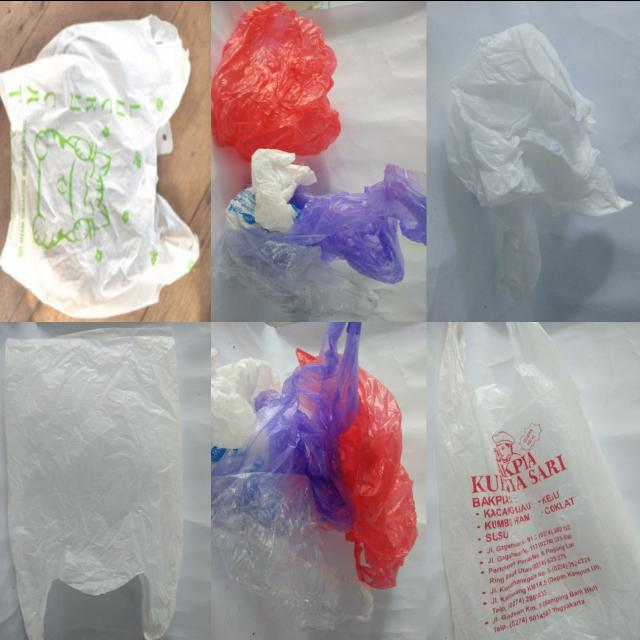plastik: (437, 321, 640, 640), (0, 15, 199, 316), (6, 328, 182, 640), (446, 23, 632, 298), (215, 321, 360, 531), (211, 472, 373, 630), (211, 1, 340, 158), (281, 163, 426, 283), (339, 367, 417, 588), (219, 229, 378, 316), (227, 148, 316, 231), (212, 357, 282, 448)
